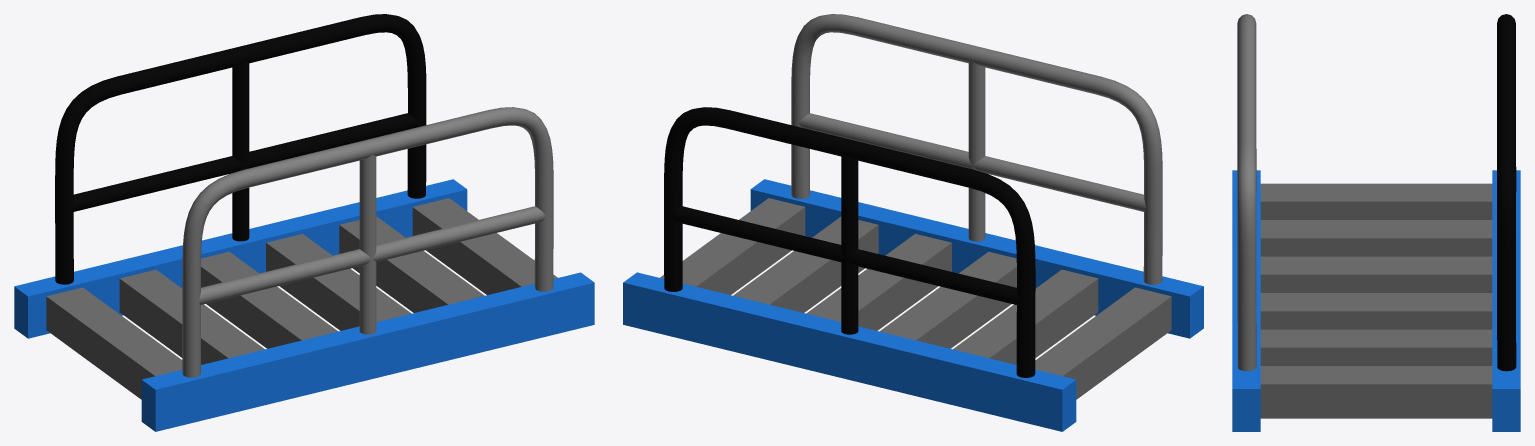
The model's file is railing4.fbx.
3 views of the same model, side by side, from view 1: azimuth 30°, elevation 25°; view 2: azimuth 150°, elevation 25°; view 3: azimuth 270°, elevation 25° (orthographic). The views are drawn at different scales.
Parts seen in each view (by area): view 1: Platform.001, Platform, Side_1.001, Side_1; view 2: Platform.001, Platform, Side_1, Side_1.001; view 3: Platform, Platform.001, Side_1.001, Side_1.
Boxes of the visible parts, bbox=[...] form: Platform.001: bbox=[14, 179, 594, 431]; Platform: bbox=[46, 198, 557, 399]; Side_1.001: bbox=[182, 107, 553, 377]; Side_1: bbox=[55, 14, 426, 284]; Platform.001: bbox=[623, 179, 1203, 431]; Platform: bbox=[660, 198, 1171, 399]; Side_1: bbox=[664, 107, 1035, 377]; Side_1.001: bbox=[791, 14, 1162, 284]; Platform: bbox=[1260, 183, 1492, 418]; Platform.001: bbox=[1232, 170, 1520, 431]; Side_1.001: bbox=[1237, 14, 1256, 371]; Side_1: bbox=[1497, 14, 1516, 371].
Bounding box in the file's own units: 2 × 1.01 × 1.11.
